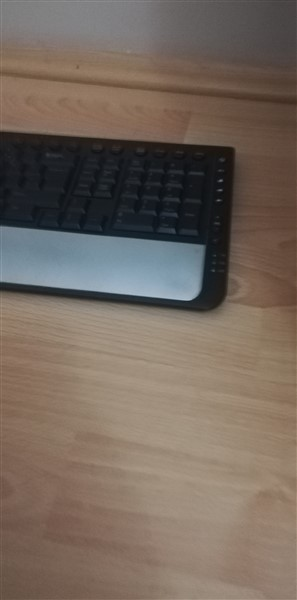klavye: (1, 142, 236, 311)
